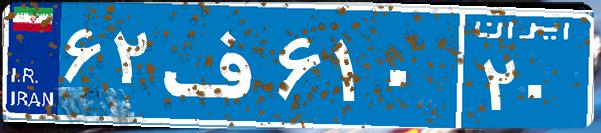0: (385, 28, 445, 110), (525, 38, 570, 115)
1: (330, 28, 385, 110)
2: (475, 38, 525, 113), (110, 28, 158, 105)
6: (273, 28, 330, 110), (57, 26, 110, 107)
ف: (158, 15, 273, 115)
